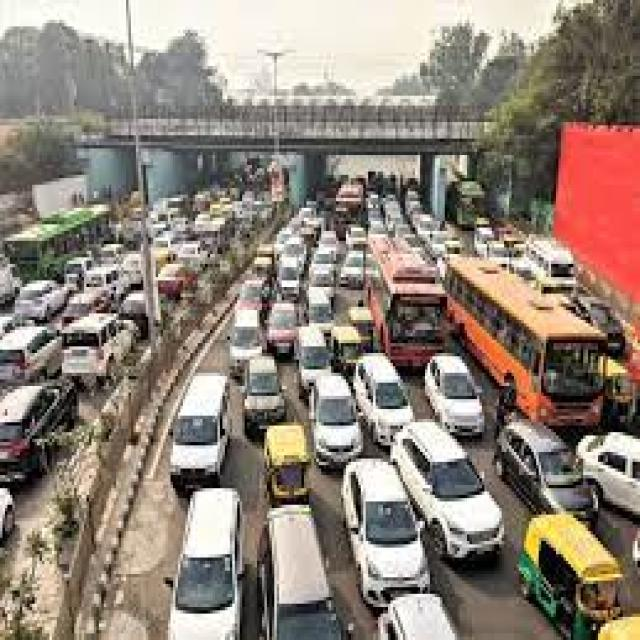high_traffic: (175, 168, 640, 640), (0, 224, 138, 435)
